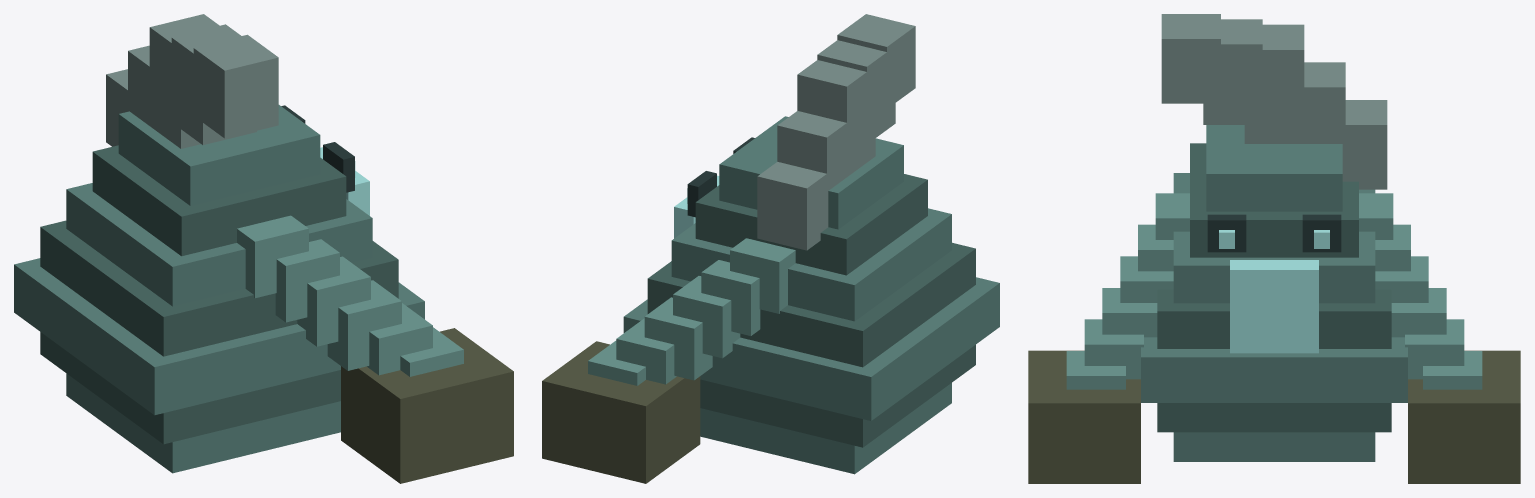
Rendered from bog-elemental.glb.
The picture shows the model from 3 angles, left to right: view 1: azimuth 30°, elevation 25°; view 2: azimuth 150°, elevation 25°; view 3: azimuth 270°, elevation 25°; orthographic projection. The views are drawn at different scales.
Visible parts, largest first — view 1: MudBody, MudFists, MudArms, CrownStones, EyeSockets, ExposedCore; view 2: MudBody, CrownStones, MudFists, MudArms, EyeSockets, ExposedCore; view 3: MudBody, MudFists, CrownStones, MudArms, ExposedCore, EyeSockets, MoonEyes.
Part boxes in pixels (left/top/right/bottom): MudBody: left=14, top=105, right=424, bottom=473; MudFists: left=341, top=328, right=513, bottom=483; MudArms: left=237, top=215, right=463, bottom=376; CrownStones: left=106, top=14, right=278, bottom=148; EyeSockets: left=281, top=105, right=354, bottom=192; ExposedCore: left=320, top=147, right=369, bottom=215; MudBody: left=623, top=116, right=999, bottom=474; CrownStones: left=757, top=14, right=915, bottom=250; MudFists: left=542, top=341, right=700, bottom=483; MudArms: left=588, top=238, right=795, bottom=385; EyeSockets: left=687, top=137, right=754, bottom=217; ExposedCore: left=674, top=175, right=719, bottom=238; MudBody: left=1141, top=125, right=1407, bottom=461; MudFists: left=1028, top=350, right=1520, bottom=483; CrownStones: left=1161, top=14, right=1387, bottom=189; MudArms: left=1066, top=193, right=1482, bottom=389; ExposedCore: left=1230, top=260, right=1318, bottom=353; EyeSockets: left=1207, top=214, right=1341, bottom=252; MoonEyes: left=1219, top=230, right=1329, bottom=248.
Size of the model in its own units: 5.55 by 7 by 8.3.
